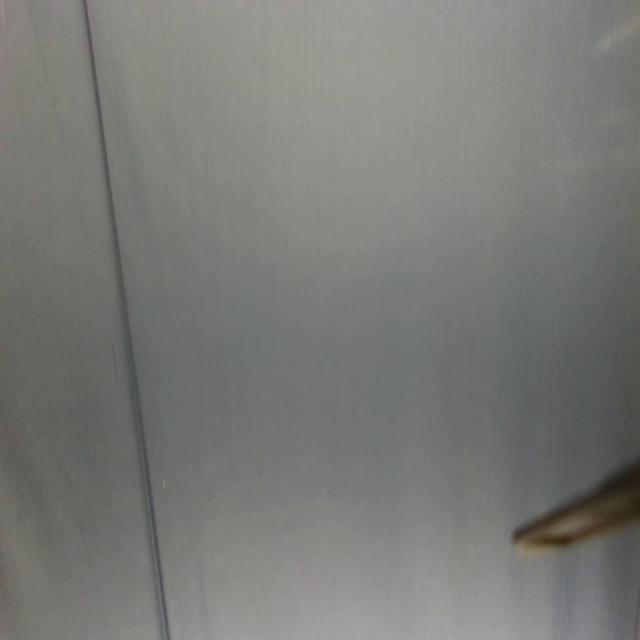crease: (82, 0, 171, 640), (25, 0, 83, 216)
